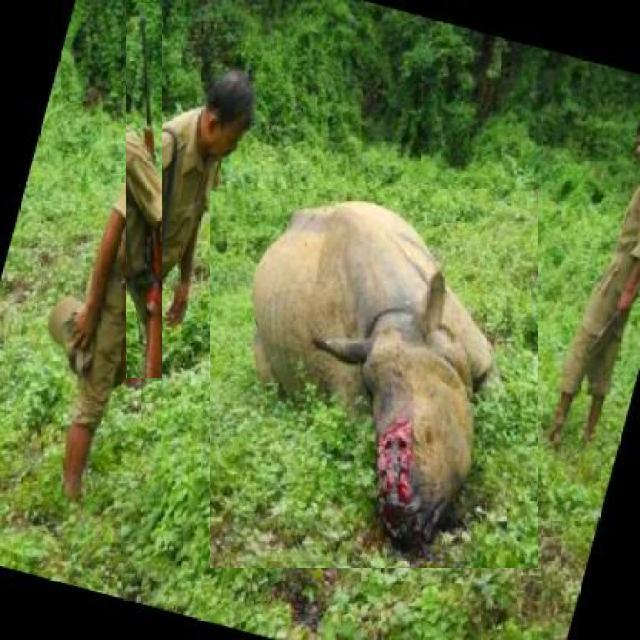p_collect: (210, 189, 538, 568)
poacher: (40, 3, 289, 509), (538, 174, 640, 460)
weapon: (126, 1, 162, 378)
